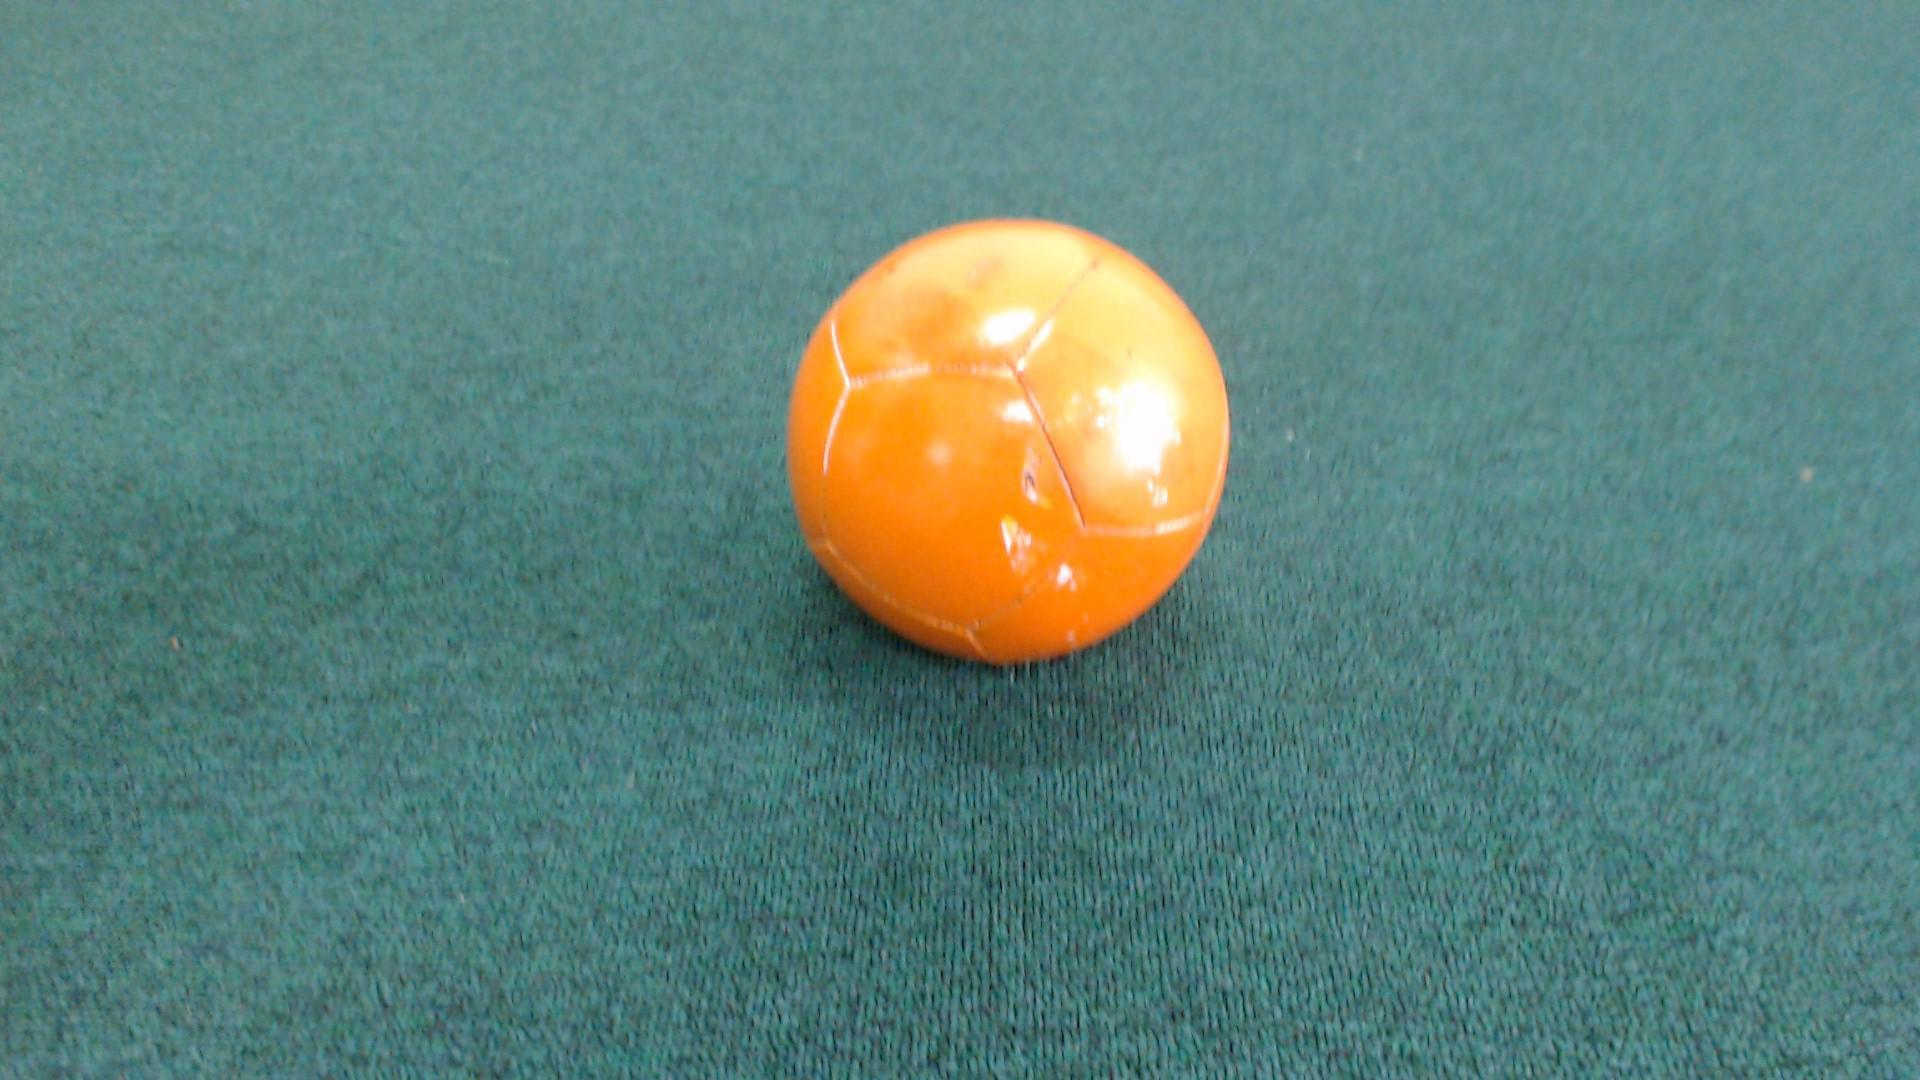bola: (735, 206, 1255, 691)
